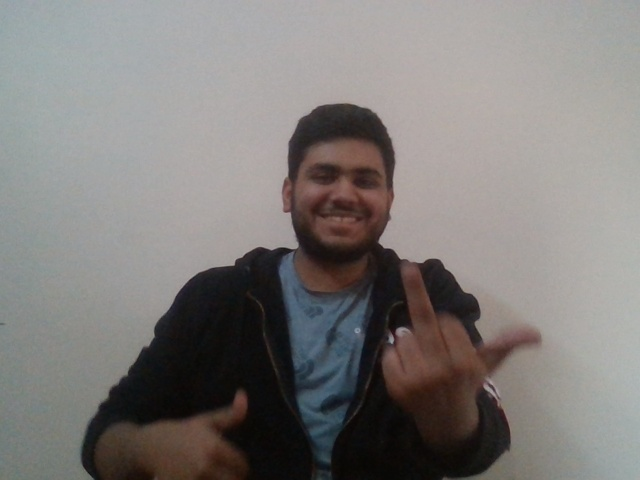Hello: (372, 259, 549, 416)
